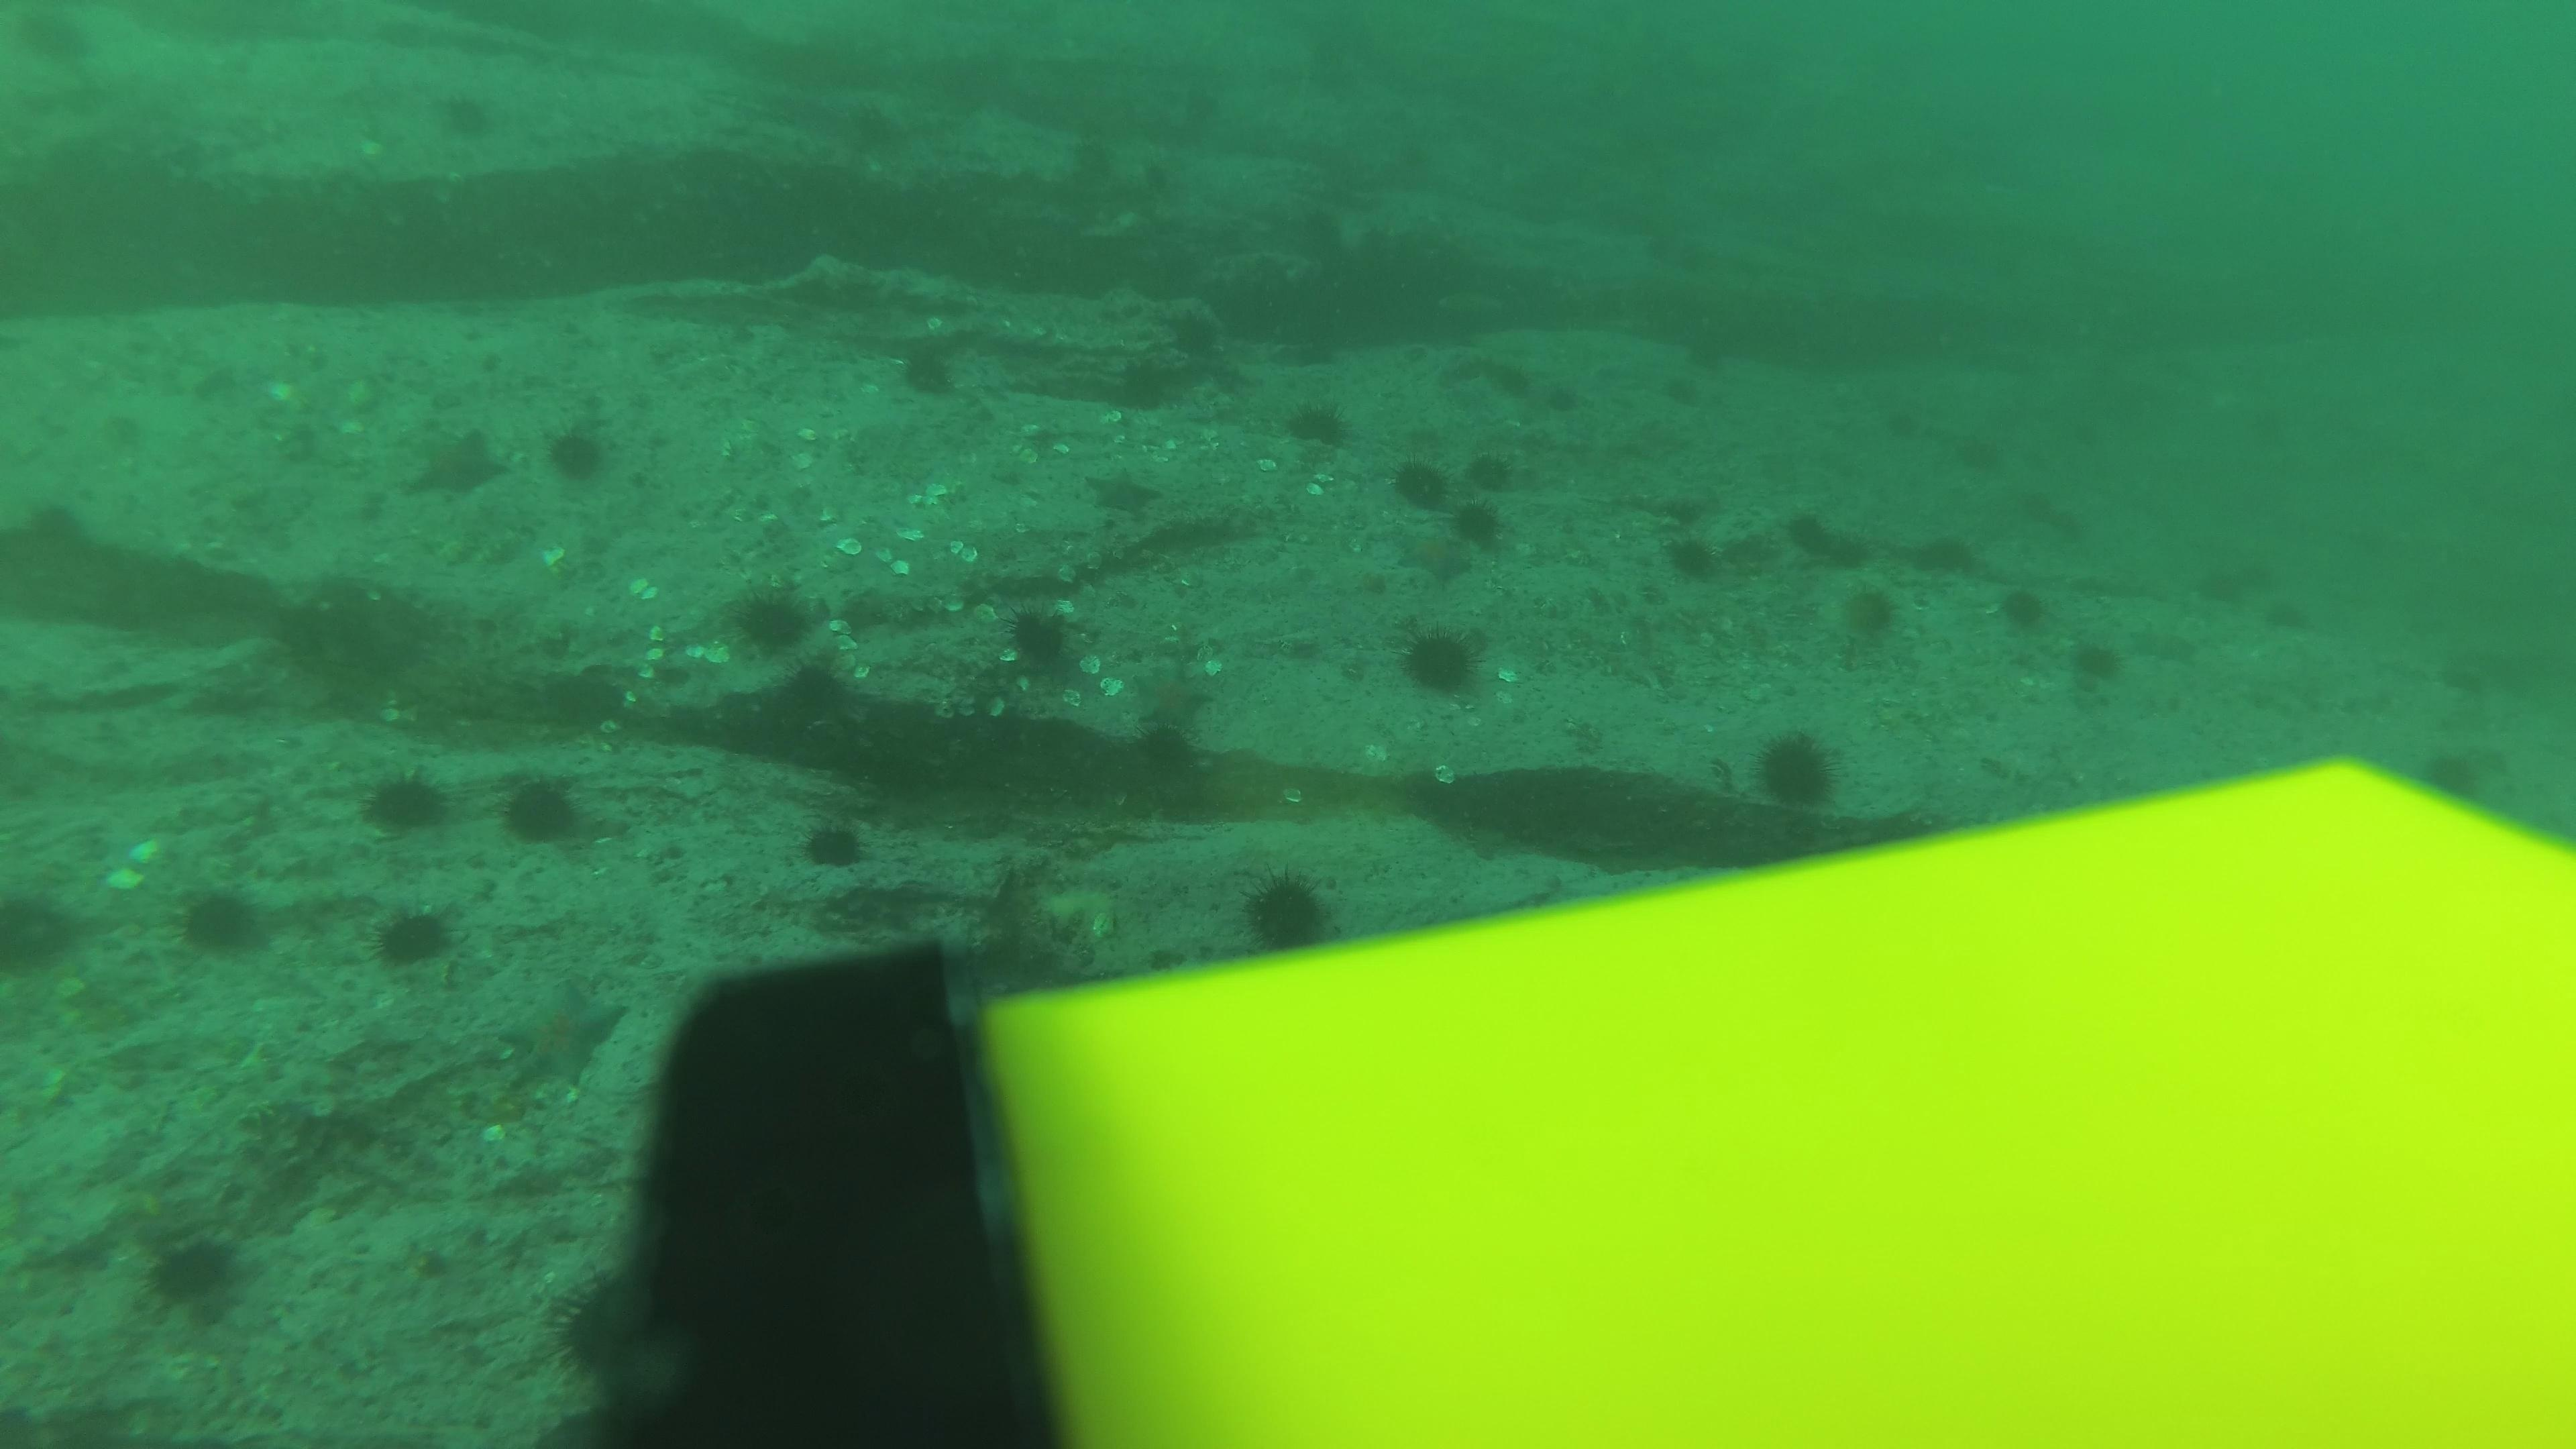echinus: (545, 1260, 702, 1430), (133, 1223, 255, 1325), (1231, 863, 1346, 961), (717, 575, 830, 665), (991, 596, 1095, 690), (1743, 725, 1849, 817), (492, 766, 602, 855), (165, 878, 274, 964), (1391, 619, 1493, 706), (0, 879, 87, 982), (364, 897, 464, 978), (354, 761, 455, 840), (885, 331, 971, 405), (1829, 579, 1909, 658), (430, 81, 511, 156), (791, 807, 878, 876), (540, 414, 619, 488), (430, 80, 510, 154), (1654, 520, 1732, 587), (1385, 449, 1461, 517), (1277, 391, 1355, 455), (2061, 630, 2128, 695), (1989, 579, 2054, 639), (1106, 357, 1171, 416), (1453, 499, 1511, 545), (1463, 446, 1522, 490), (1058, 127, 1115, 172), (1302, 205, 1357, 249), (1168, 315, 1223, 357), (2426, 755, 2480, 798), (2433, 662, 2488, 704), (2265, 598, 2312, 635), (1663, 379, 1707, 410), (1138, 154, 1177, 189), (849, 103, 888, 138), (1546, 384, 1589, 416), (1495, 364, 1537, 396), (1690, 349, 1732, 380), (2199, 575, 2243, 605), (1184, 92, 1221, 127), (2475, 743, 2512, 775), (1675, 239, 1709, 271), (1790, 513, 1824, 545), (1840, 538, 1874, 570), (1966, 435, 1997, 467), (1642, 234, 1675, 264), (1937, 538, 1971, 568), (2020, 494, 2054, 524), (2043, 510, 2077, 540), (1890, 400, 1923, 430), (2238, 561, 2270, 591)
starfish: (494, 971, 630, 1090), (400, 421, 510, 502), (1129, 658, 1221, 732), (1391, 525, 1481, 587), (1083, 464, 1164, 518)
